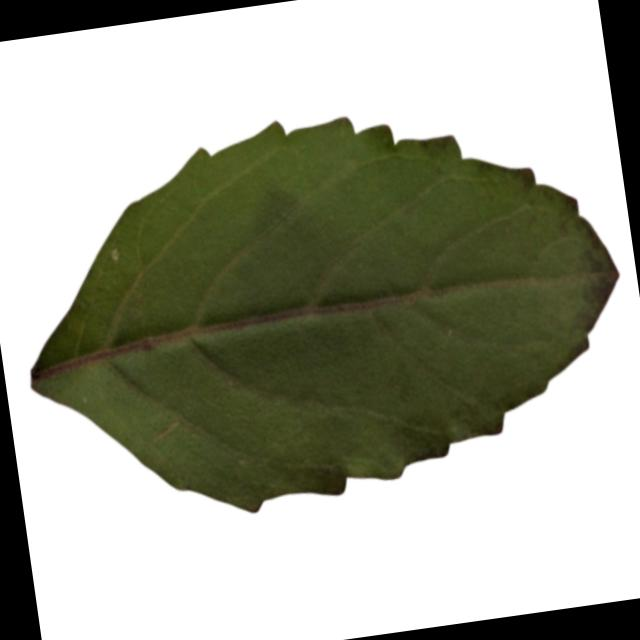tulsi: (0, 62, 640, 546)
